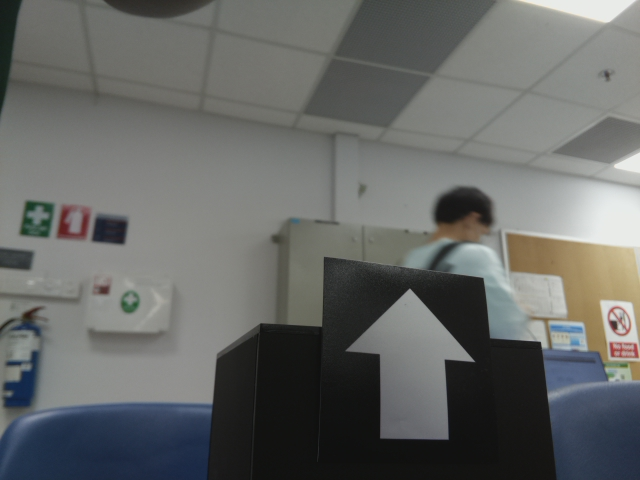up: (338, 275, 478, 456)
